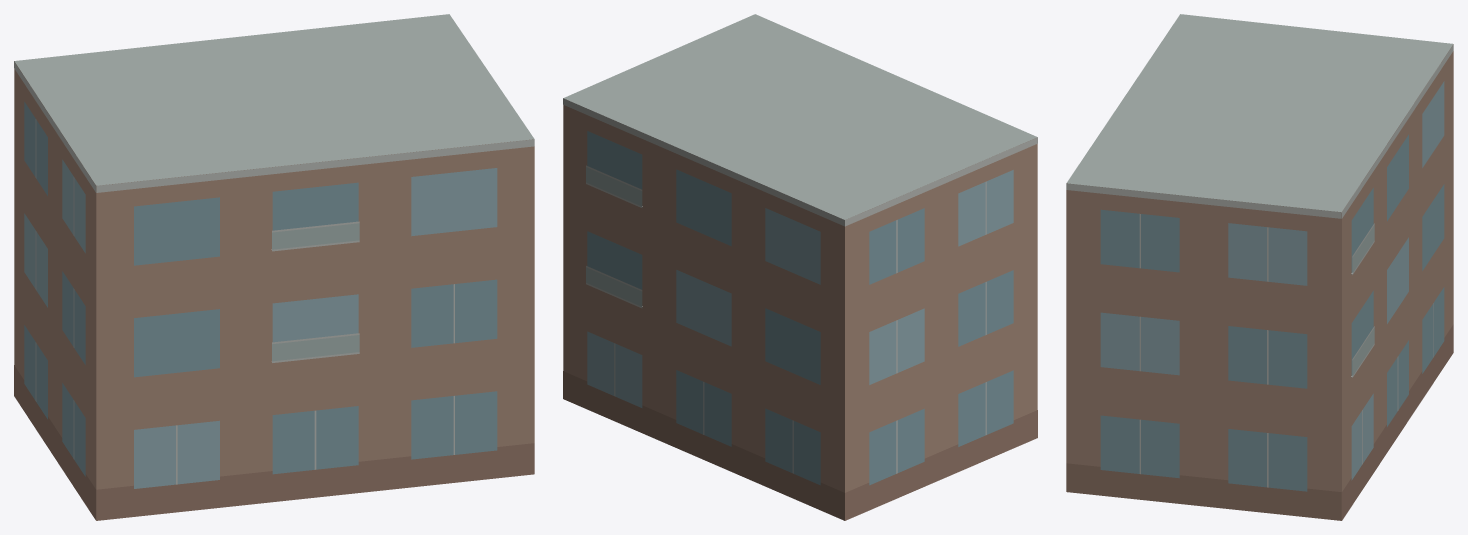
Rendered from survey-upis-33029596.glb.
The picture shows the model from 3 angles, left to right: view 1: azimuth 30°, elevation 25°; view 2: azimuth 150°, elevation 25°; view 3: azimuth 270°, elevation 25°; orthographic projection. The views are drawn at different scales.
Visible parts, largest first — view 1: survey-upis-33029596.tmp; view 2: survey-upis-33029596.tmp; view 3: survey-upis-33029596.tmp.
Part boxes in pixels (left/top/right/bottom): survey-upis-33029596.tmp: left=14, top=14, right=534, bottom=520; survey-upis-33029596.tmp: left=563, top=14, right=1037, bottom=520; survey-upis-33029596.tmp: left=1066, top=14, right=1453, bottom=520.
Bounding box in the file's own units: 15.57 × 11.3 × 12.86.
